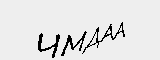А: (116, 18, 131, 39), (103, 22, 114, 44)
Д: (86, 26, 100, 54)
М: (63, 28, 83, 57)
Ч: (37, 29, 60, 56)
